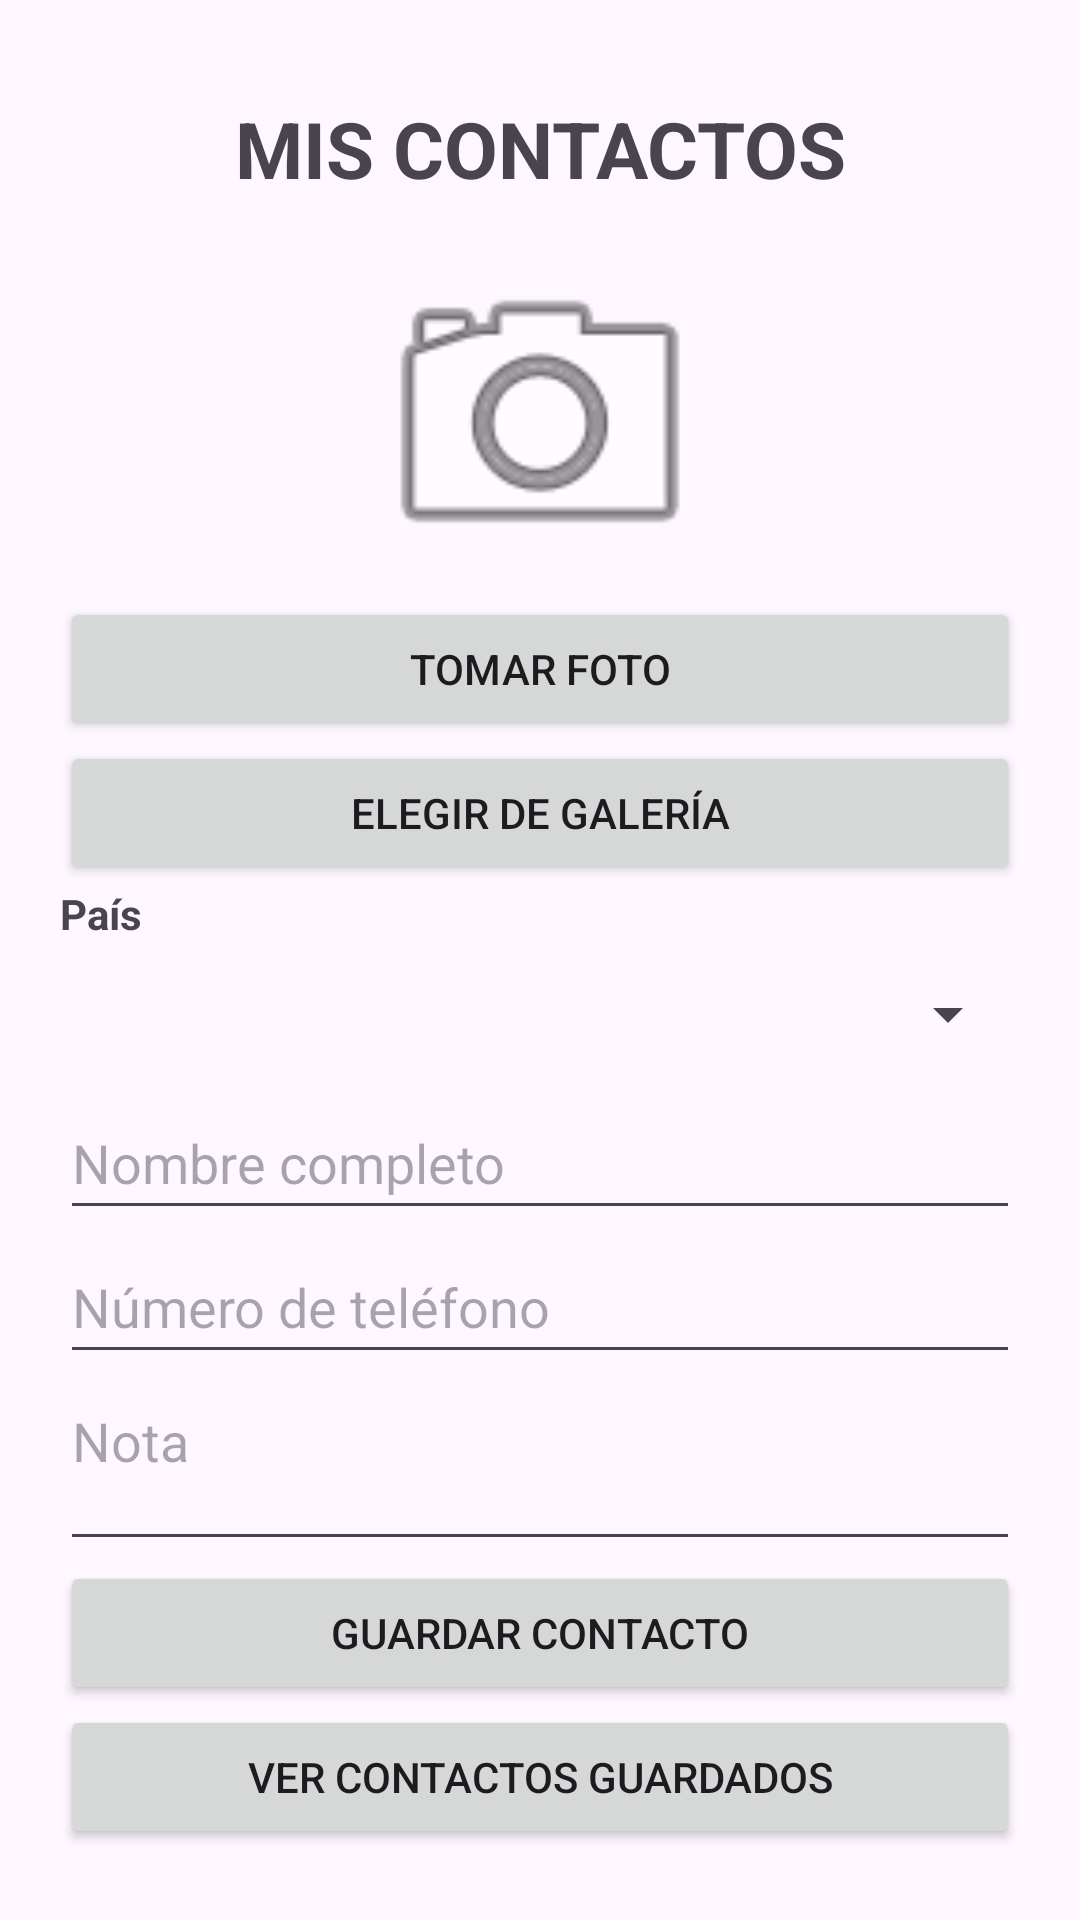

Point at icon controls on the screen. Image size 1080 x 1920, points as point (x, y).
Imagen del contacto: point (540, 411)
